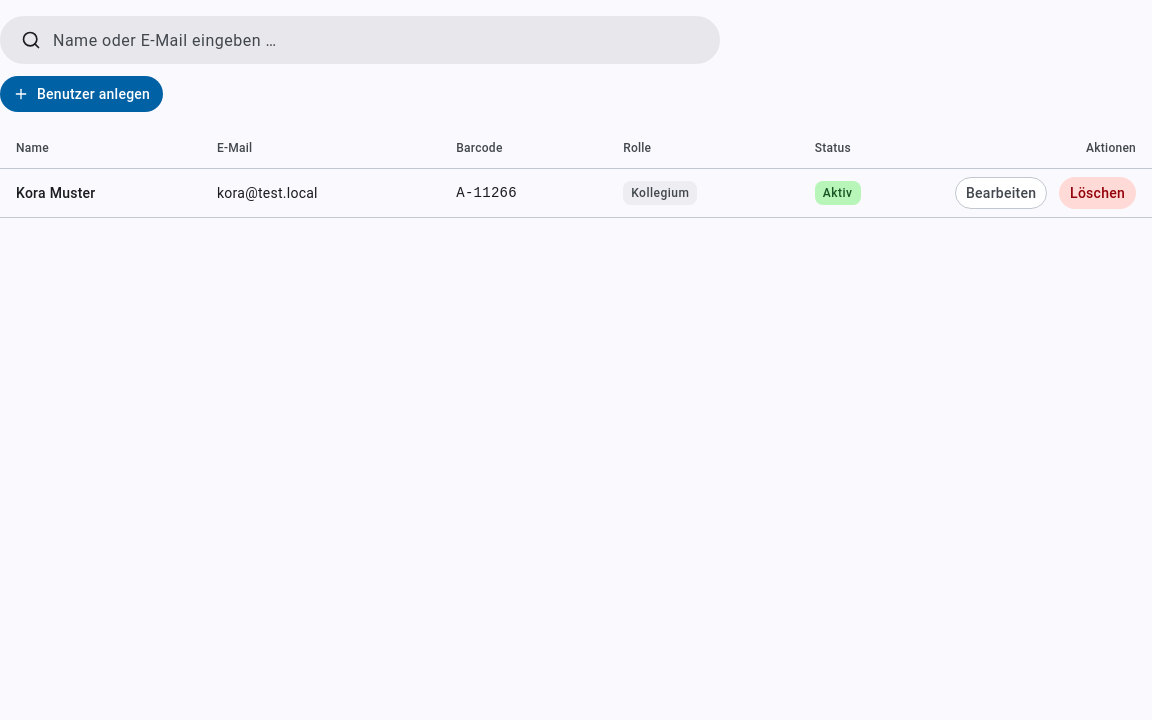
Benutzerliste: Meldungen › lässt den Grund eines gescheiterten Speicherns nach dem Abbrechen über einen benannten Knopf schließen
Check: the table named "Benutzerkonten" is shown, box [0, 128, 1151, 218]
Click the button "Benutzer anlegen": (82, 94) [0, 76, 163, 112]
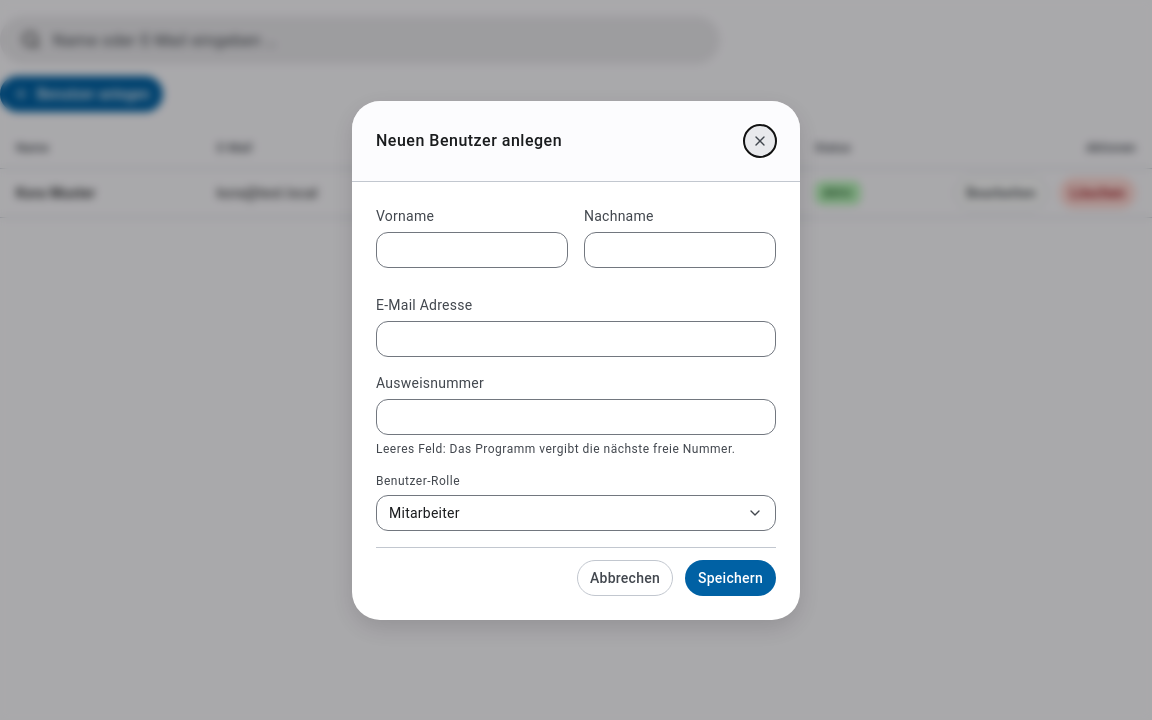
Submit the form, box [352, 182, 800, 620]
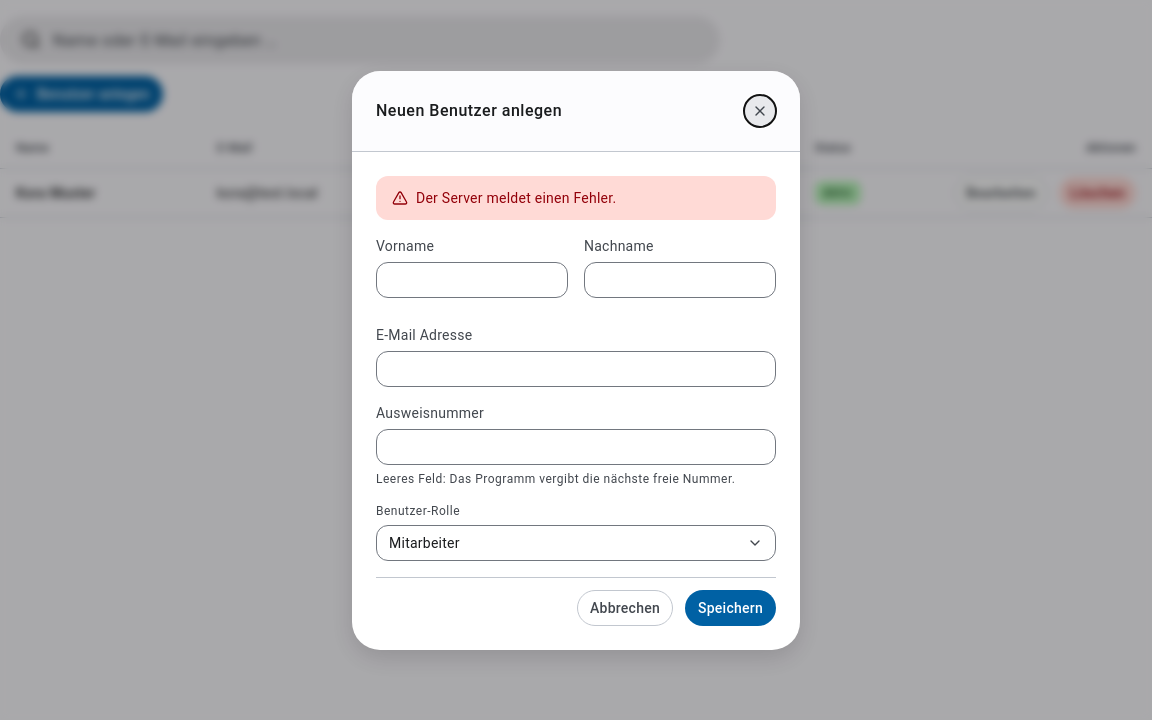
Check: the text "Der Server meldet einen Fehler." is shown, box [416, 188, 616, 208]
Click the button "Abbrechen": (625, 608) [577, 590, 673, 626]
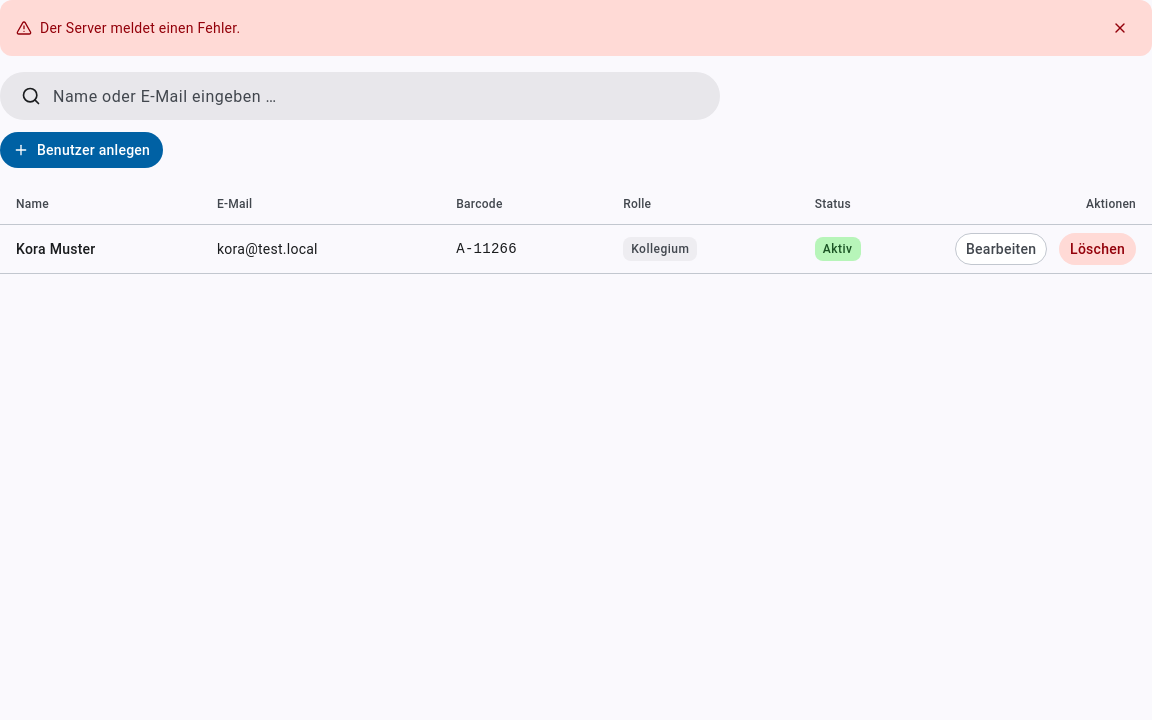
Check: the message reads "Der Server meldet einen Fehler.", box [40, 20, 240, 36]
Click the button named "Meldung schließen": (1120, 28) [1104, 12, 1136, 44]
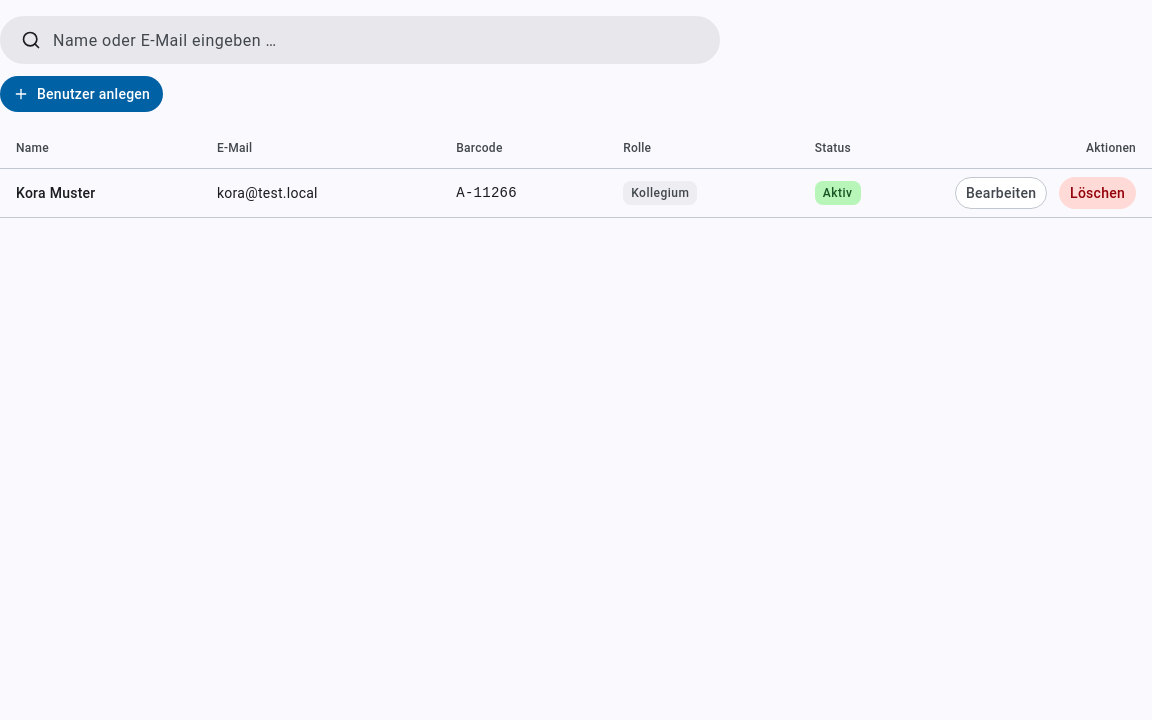
Check: the message "Der Server meldet einen Fehler." is gone
